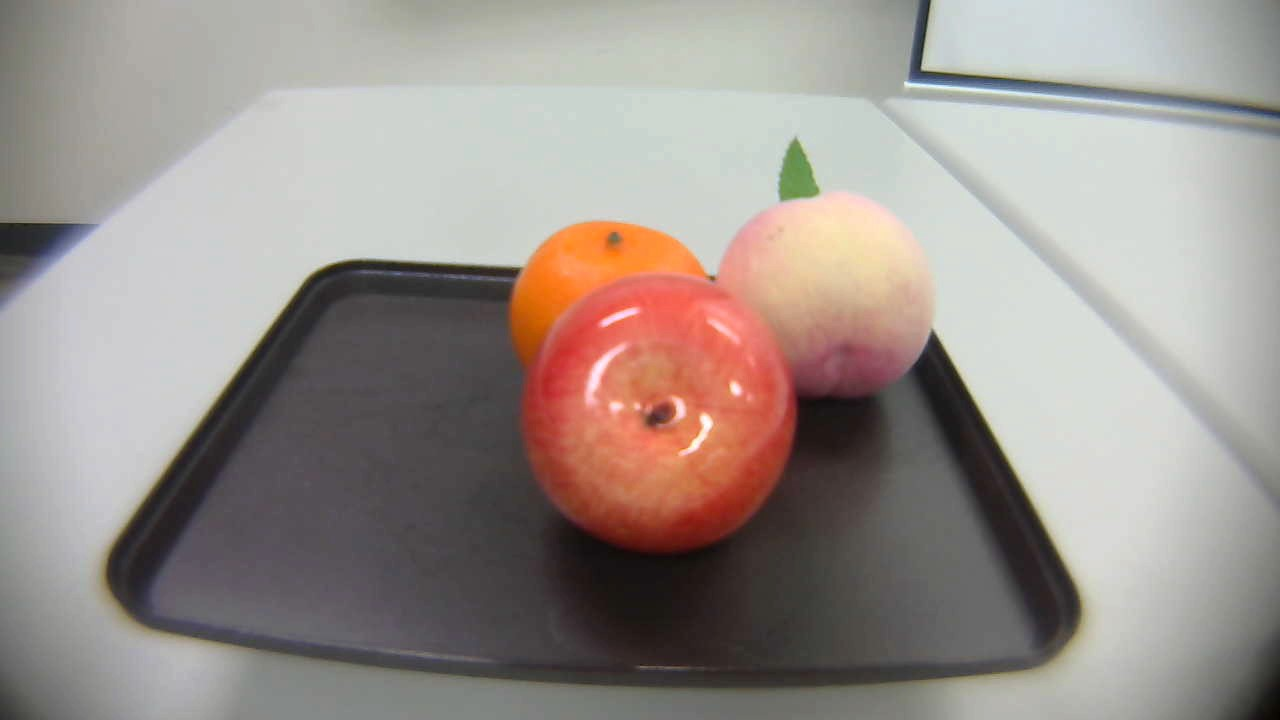orange: (504, 209, 718, 385)
peach: (717, 137, 938, 401)
red apple: (514, 261, 802, 559)
